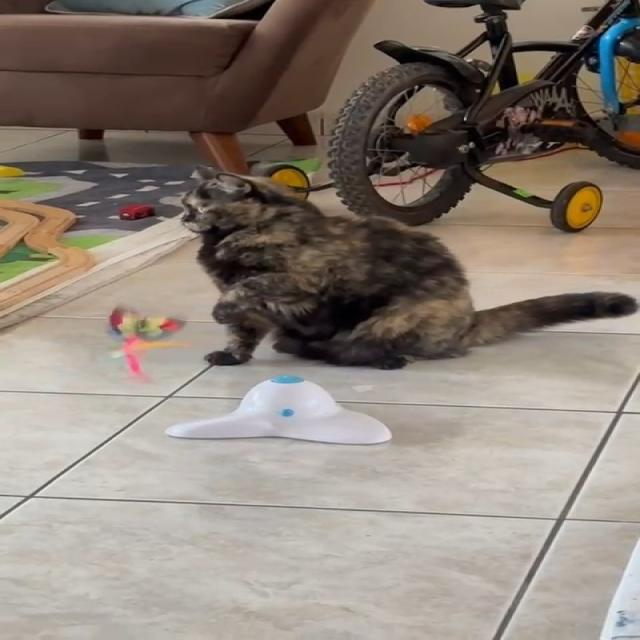authorized: (178, 164, 638, 370)
